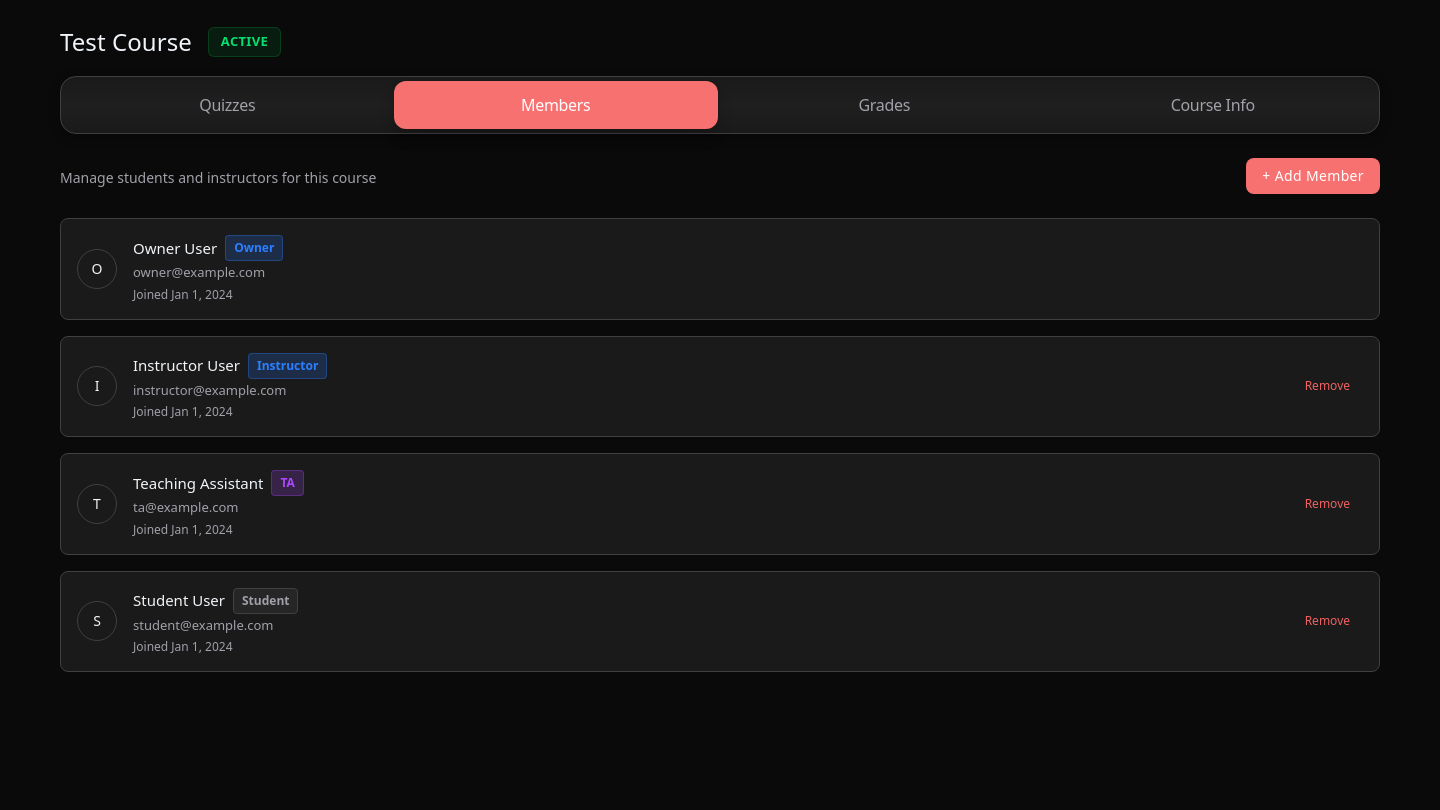
Test case: StudentsPage › Member Operations › opens add member modal when Add Member button is clicked
What coordinates should you click on to do the following:
click the button "+ Add Member"
I would click on:
 (1313, 176)
Its box is [1246,158,1380,194].
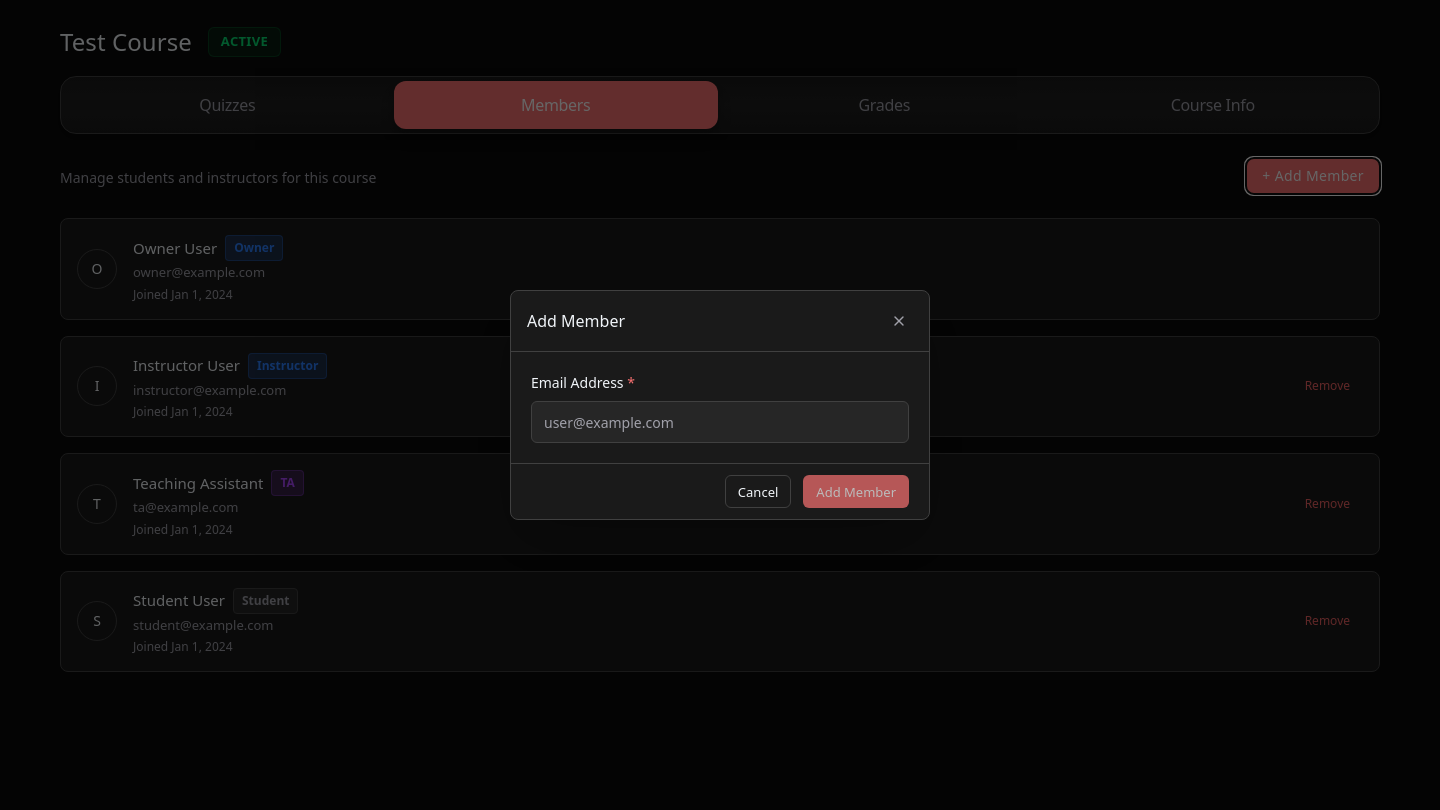
Now the heading "Add Member" is shown, box [527,309,625,333]
Now the field labelled "Email Address *" is shown, box [531,401,909,443]
